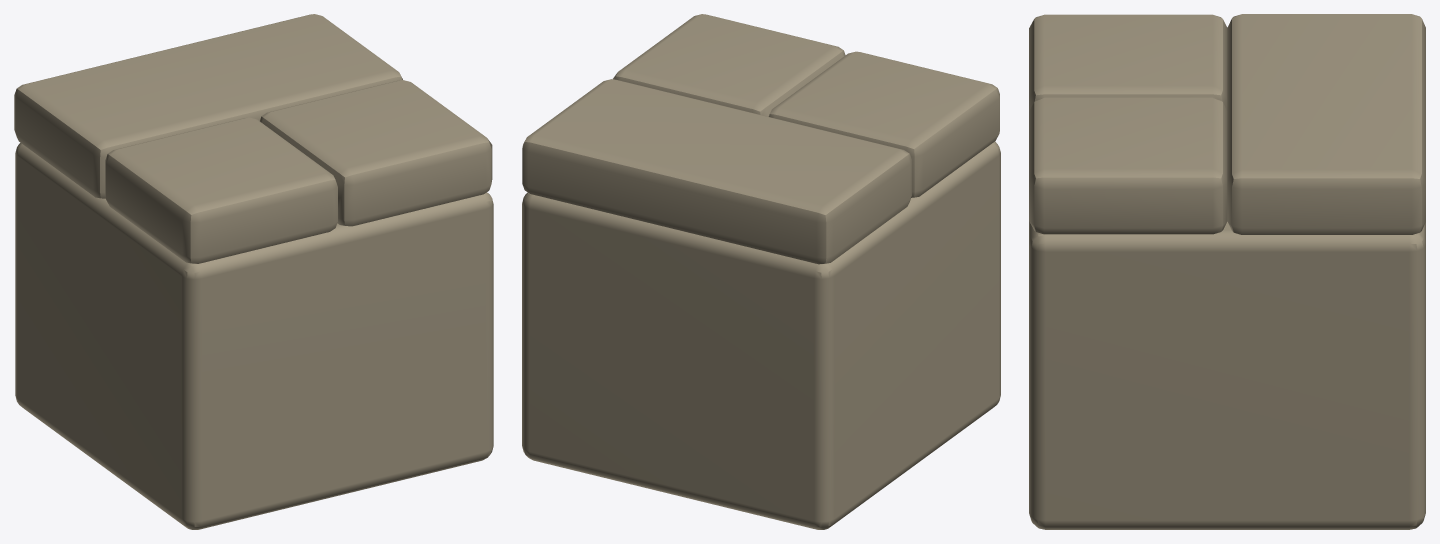
Rendered from SlabBox_001.fbx.
3 views of the same model, side by side, from view 1: azimuth 30°, elevation 25°; view 2: azimuth 150°, elevation 25°; view 3: azimuth 270°, elevation 25° (orthographic). The views are drawn at different scales.
Parts seen in each view (by area): view 1: SlabBox_001; view 2: SlabBox_001; view 3: SlabBox_001.
Boxes of the visible parts, bbox=[...] form: SlabBox_001: bbox=[14, 14, 493, 529]; SlabBox_001: bbox=[522, 14, 1000, 529]; SlabBox_001: bbox=[1029, 14, 1425, 529].
Bounding box in the file's own units: 1 × 1 × 1.
